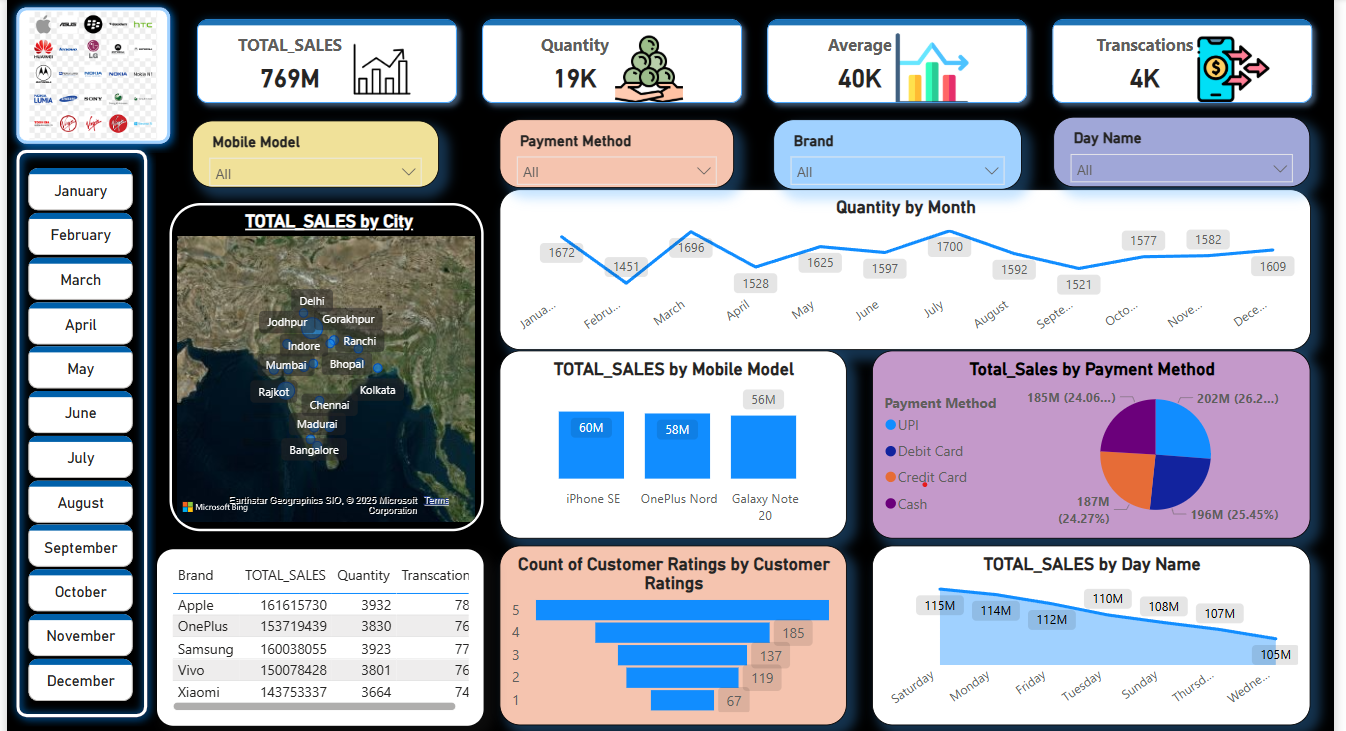

The dashboard page shown, as its layout file describes it:
{"tool":"powerbi","page":{"name":"Page 1","canvas":[1280,720],"ordinal":0},"visuals":[{"type":"shape","box":[0,0,166.5,149.6],"z":0},{"type":"shape","box":[0,137.1,144.3,565.6],"z":1000},{"type":"advancedSlicerVisual","fields":{"Values":["Sales_Data.Date.Variation.Date Hierarchy.Month"]},"box":[15.9,158.7,111.1,532.4],"z":2000},{"type":"cardVisual","fields":{"Data":["Sales_Data.TOTAL_SALES","Sales_Data.Quantity","Sales_Data.Average","Sales_Data.Transcations"]},"box":[166.7,3.3,1113.3,115],"z":3000},{"type":"map","fields":{"Category":["Sales_Data.City"],"Size":["Sales_Data.TOTAL_SALES"]},"box":[156.7,198.3,303.3,316.7],"z":4000},{"type":"lineChart","fields":{"Category":["Sales_Data.Date.Variation.Date Hierarchy.Month","Sales_Data.Date.Variation.Date Hierarchy.Day"],"Y":["Sales_Data.Quantity"]},"box":[475,185,783.3,155],"z":5000},{"type":"clusteredColumnChart","fields":{"Category":["Sales_Data.Mobile Model"],"Y":["Sales_Data.TOTAL_SALES"]},"box":[475,340,335,181.7],"z":6000},{"type":"pieChart","title":"Total_Sales by Payment Method","fields":{"Category":["Sales_Data.Payment Method"],"Y":["Sales_Data.TOTAL_SALES"]},"box":[835,340,423.3,181.7],"z":7000},{"type":"funnel","fields":{"Category":["Sales_Data.Customer Ratings"],"Y":["CountNonNull(Sales_Data.Customer Ratings)"]},"box":[475,528.3,335,173.3],"z":8000},{"type":"areaChart","fields":{"Category":["Sales_Data.Day Name"],"Y":["Sales_Data.TOTAL_SALES"]},"box":[835,528.3,423.3,173.3],"z":9000},{"type":"tableEx","fields":{"Values":["Sales_Data.Brand","Sales_Data.TOTAL_SALES","Sales_Data.Quantity","Sales_Data.Transcations"]},"box":[145,531.7,315,170],"z":10000},{"type":"slicer","fields":{"Values":["Sales_Data.Mobile Model"]},"box":[178.3,118.3,238.3,65],"z":11000},{"type":"slicer","fields":{"Values":["Sales_Data.Payment Method"]},"box":[475,116.7,226.7,66.7],"z":12000},{"type":"slicer","fields":{"Values":["Sales_Data.Brand"]},"box":[740,116.7,240,68.3],"z":13000},{"type":"slicer","fields":{"Values":["Sales_Data.Day Name"]},"box":[1010,115,248.3,68.3],"z":14000},{"type":"image","box":[16.9,6,132.7,137.5],"z":15000}]}

Visuals, with their boxes in screenshot pixels (x1, y1, x2, y2):
shape: rect(0, 0, 173, 149)
shape: rect(0, 136, 150, 724)
advancedSlicerVisual - Sales_Data.Date.Variation.Date Hierarchy.Month: rect(17, 158, 132, 712)
cardVisual - Sales_Data.TOTAL_SALES x Sales_Data.Quantity: rect(173, 0, 1332, 116)
map - Sales_Data.City x Sales_Data.TOTAL_SALES: rect(163, 199, 479, 529)
lineChart - Sales_Data.Date.Variation.Date Hierarchy.Month x Sales_Data.Date.Variation.Date Hierarchy.Day: rect(494, 185, 1309, 347)
clusteredColumnChart - Sales_Data.Mobile Model x Sales_Data.TOTAL_SALES: rect(494, 347, 843, 536)
"Total_Sales by Payment Method" pieChart: rect(869, 347, 1309, 536)
funnel - Sales_Data.Customer Ratings x CountNonNull(Sales_Data.Customer Ratings): rect(494, 543, 843, 723)
areaChart - Sales_Data.Day Name x Sales_Data.TOTAL_SALES: rect(869, 543, 1309, 723)
tableEx - Sales_Data.Brand x Sales_Data.TOTAL_SALES: rect(151, 546, 479, 723)
slicer - Sales_Data.Mobile Model: rect(185, 116, 433, 184)
slicer - Sales_Data.Payment Method: rect(494, 114, 730, 184)
slicer - Sales_Data.Brand: rect(770, 114, 1019, 185)
slicer - Sales_Data.Day Name: rect(1051, 113, 1309, 184)
image: rect(18, 0, 156, 142)
